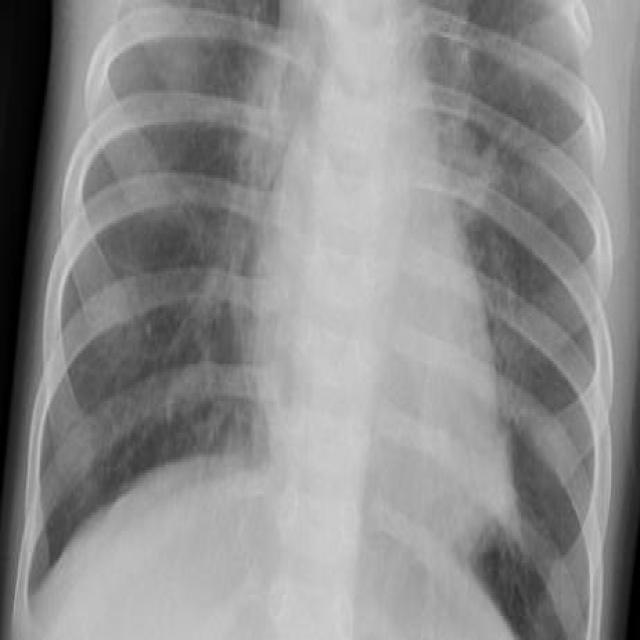low-pneumonia: (427, 1, 517, 275), (208, 10, 283, 331)
